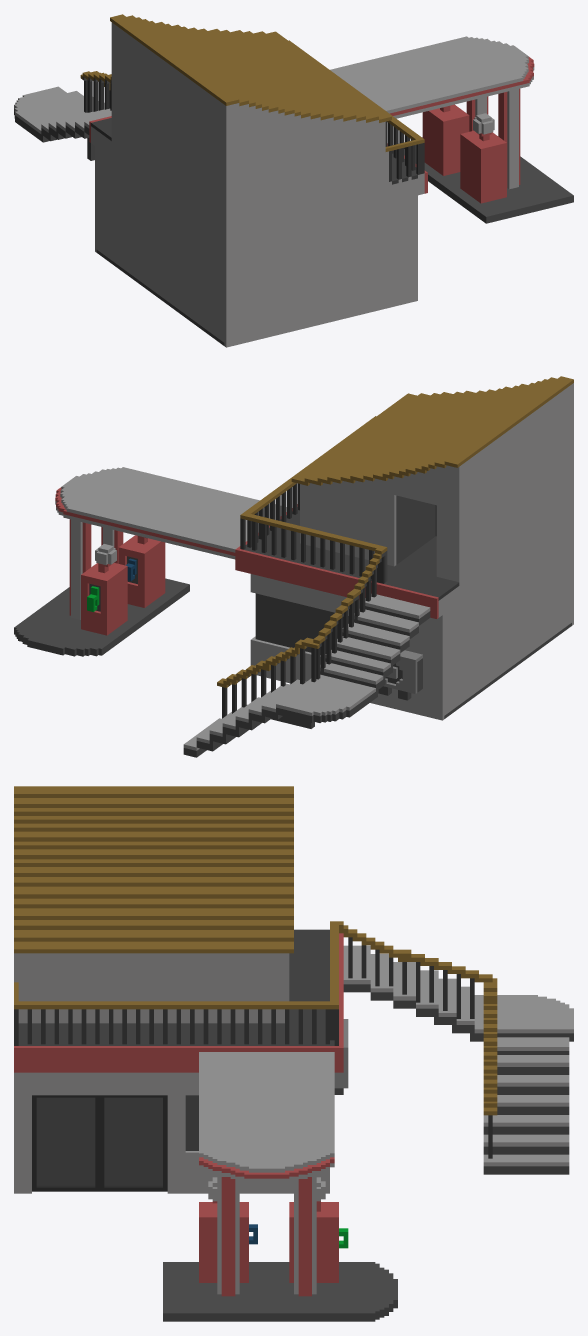
Rendered from Gas station.obj.
3 views of the same model, one above another, from view 1: azimuth 30°, elevation 25°; view 2: azimuth 150°, elevation 25°; view 3: azimuth 270°, elevation 25° (orthographic). The views are drawn at different scales.
Bounding box in the file's own units: 12.6 × 7.2 × 12.4.
1 material, 1 textured.
